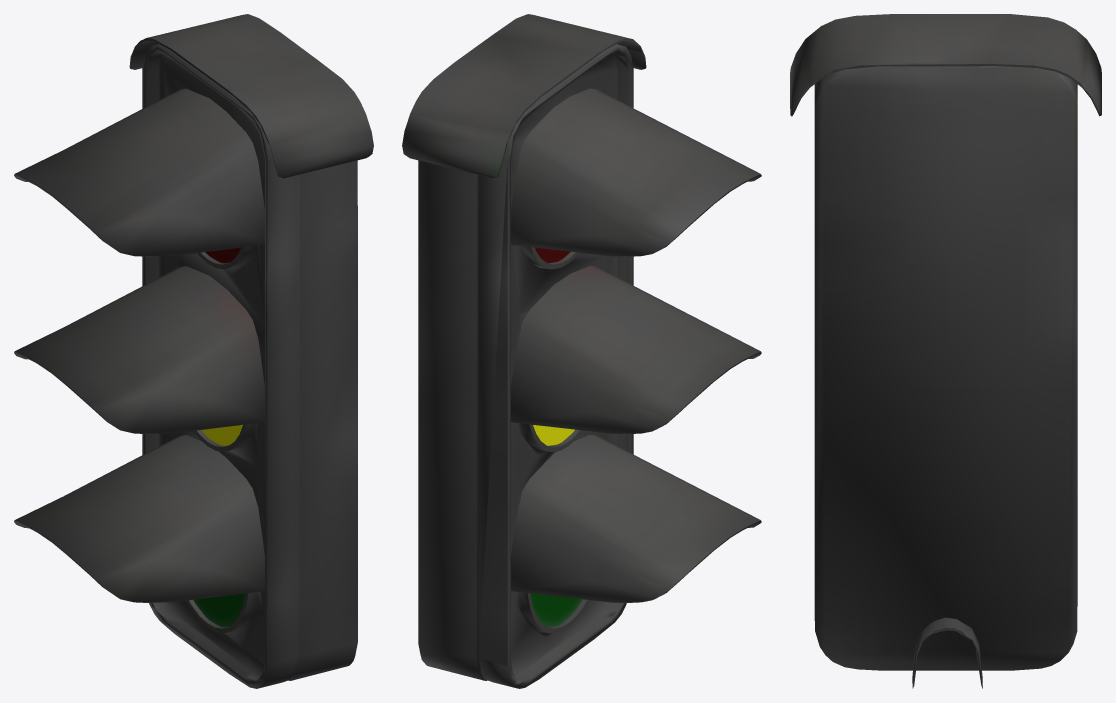
Rendered from traffic_light_yellow.glb.
3 renders of one model, left to right at view 1: azimuth 30°, elevation 25°; view 2: azimuth 150°, elevation 25°; view 3: azimuth 270°, elevation 25°, orthographic. The views are drawn at different scales.
Parts seen in each view (by area): view 1: Cube.002__0; view 2: Cube.002__0; view 3: Cube.002__0.
Boxes of the visible parts, bbox=[...] form: Cube.002__0: bbox=[14, 14, 373, 688]; Cube.002__0: bbox=[402, 14, 761, 688]; Cube.002__0: bbox=[790, 14, 1101, 688].
Size of the model in its own units: 0.3376 by 0.6961 by 0.3199.
1 material, 1 textured.
